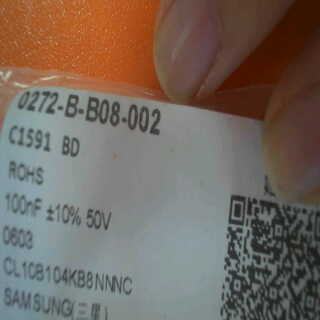100nF: (4, 190, 43, 222)
